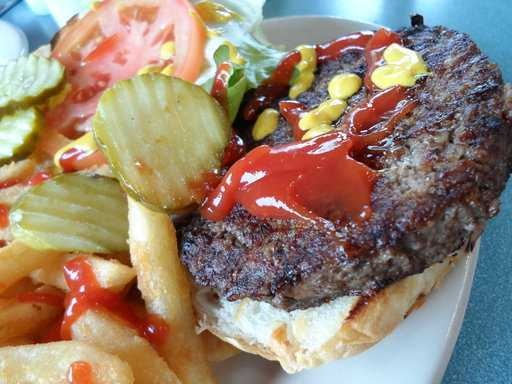hamburger: (127, 14, 506, 360)
